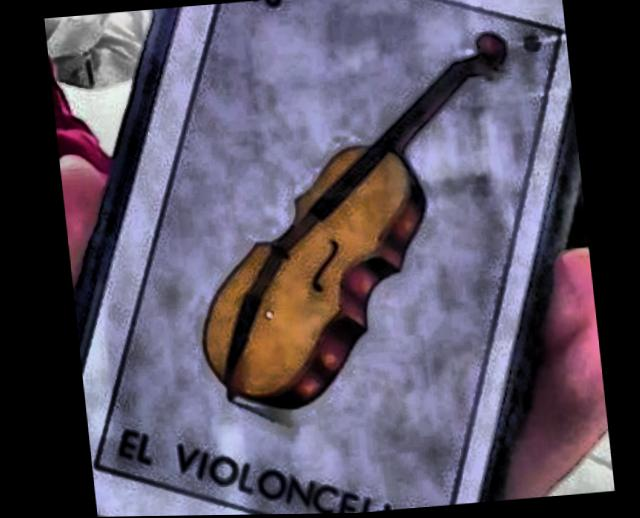El Violoncello: (92, 0, 564, 515)
